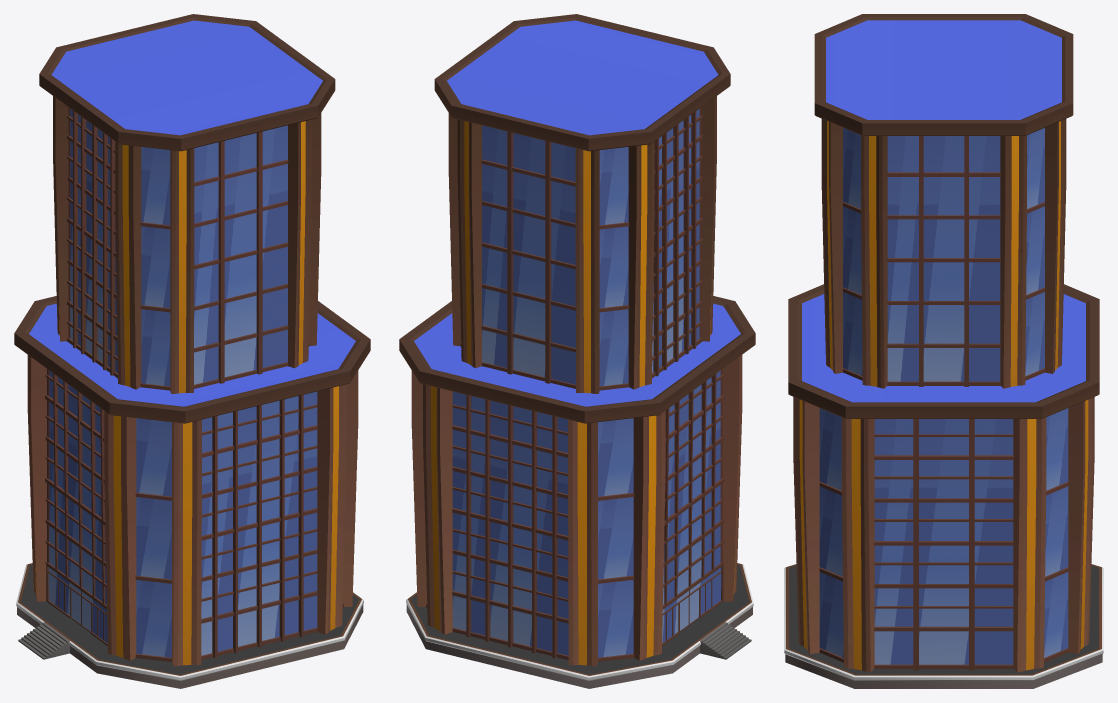
File: Building_7_2_B.fbx
The picture shows the model from 3 angles, left to right: view 1: azimuth 30°, elevation 25°; view 2: azimuth 150°, elevation 25°; view 3: azimuth 270°, elevation 25°; orthographic projection. The views are drawn at different scales.
Parts seen in each view (by area): view 1: Building_7_2_B; view 2: Building_7_2_B; view 3: Building_7_2_B.
Part boxes in pixels (x1,y1,x2,y2): Building_7_2_B: (14,14,370,688); Building_7_2_B: (399,14,755,688); Building_7_2_B: (784,14,1103,688).
Size of the model in its own units: 2520 by 4418 by 2311.
